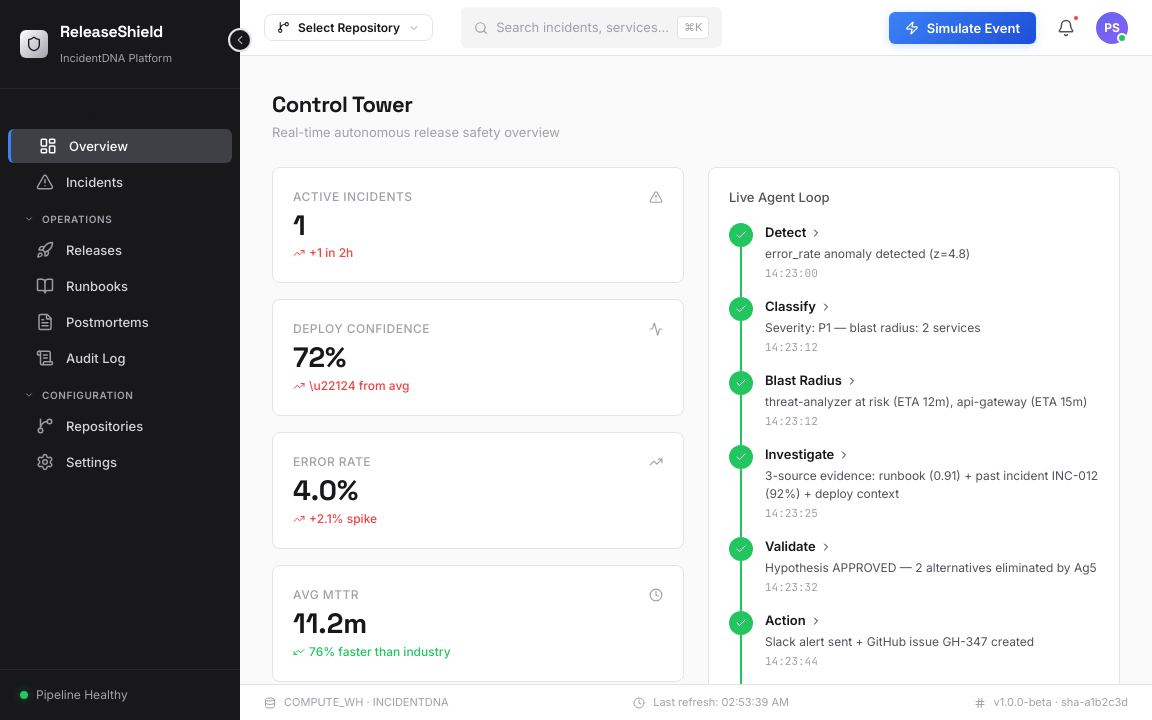
Integration — Simulation Flow › modal can be closed by Cancel
The image size is (1152, 720).
Click the button with id "simulate-event-btn". click: (962, 28)
box: 889,12 -> 1036,44
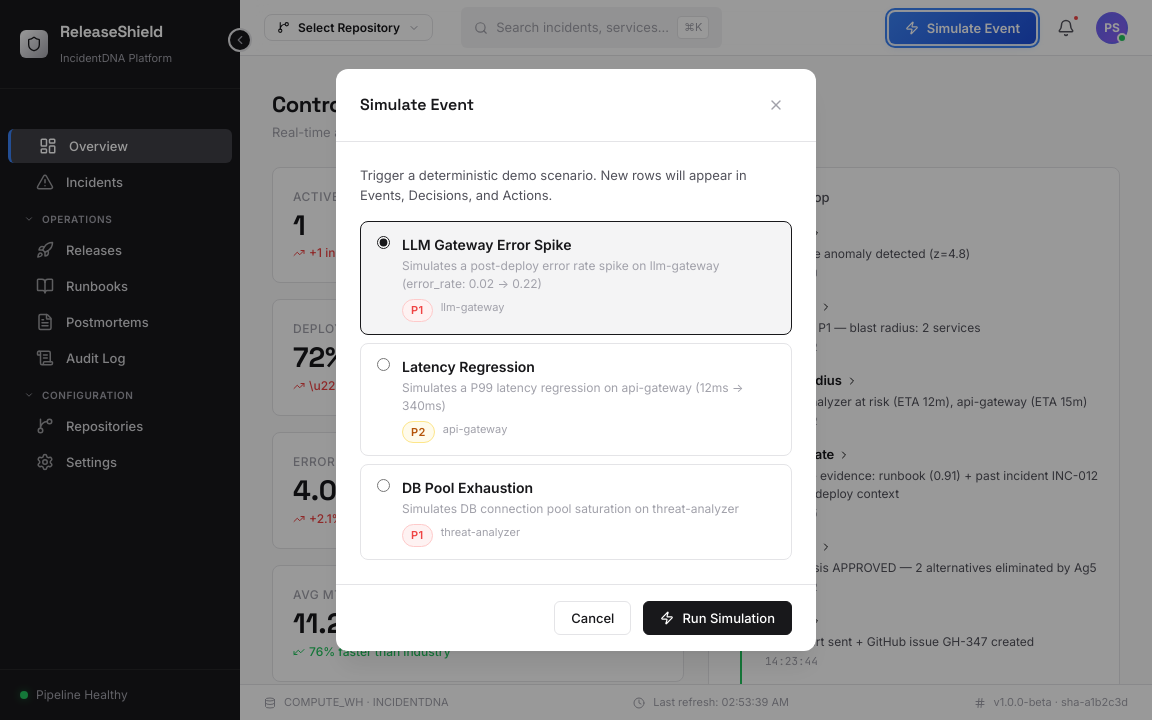
Expected: the element with id "simulation-modal" is shown
Click the button "Cancel". click: (593, 618)
box: 554,601 -> 631,635
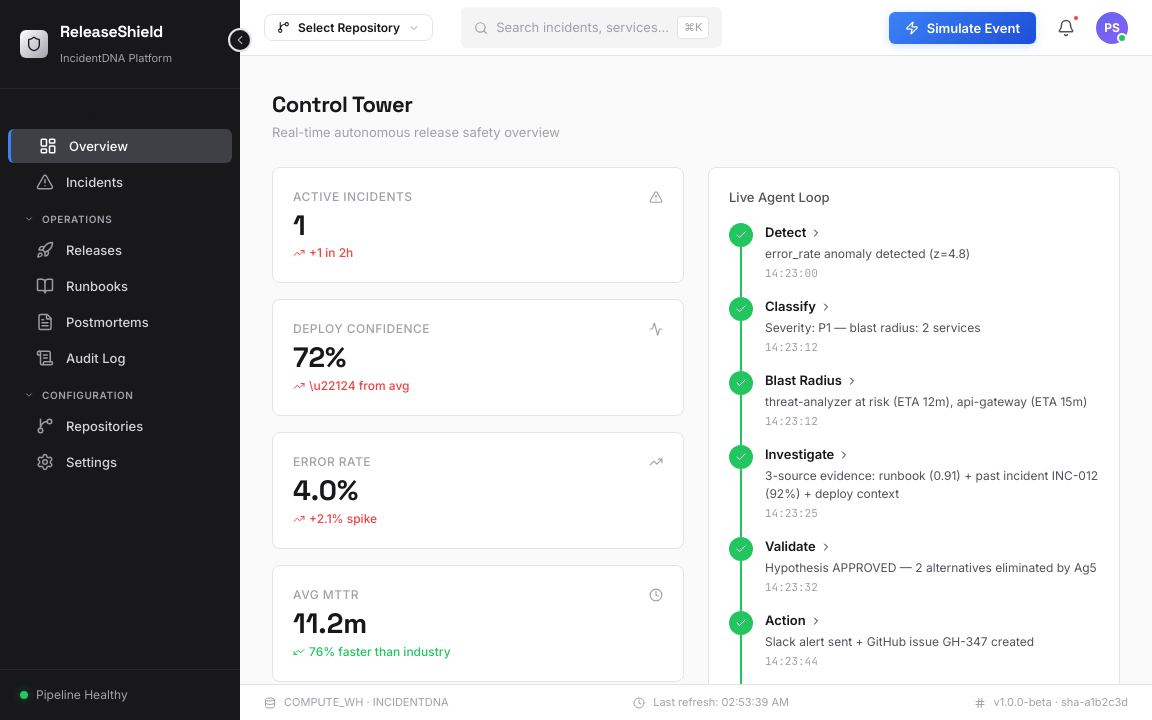
Expected: the element with id "simulation-modal" is gone
